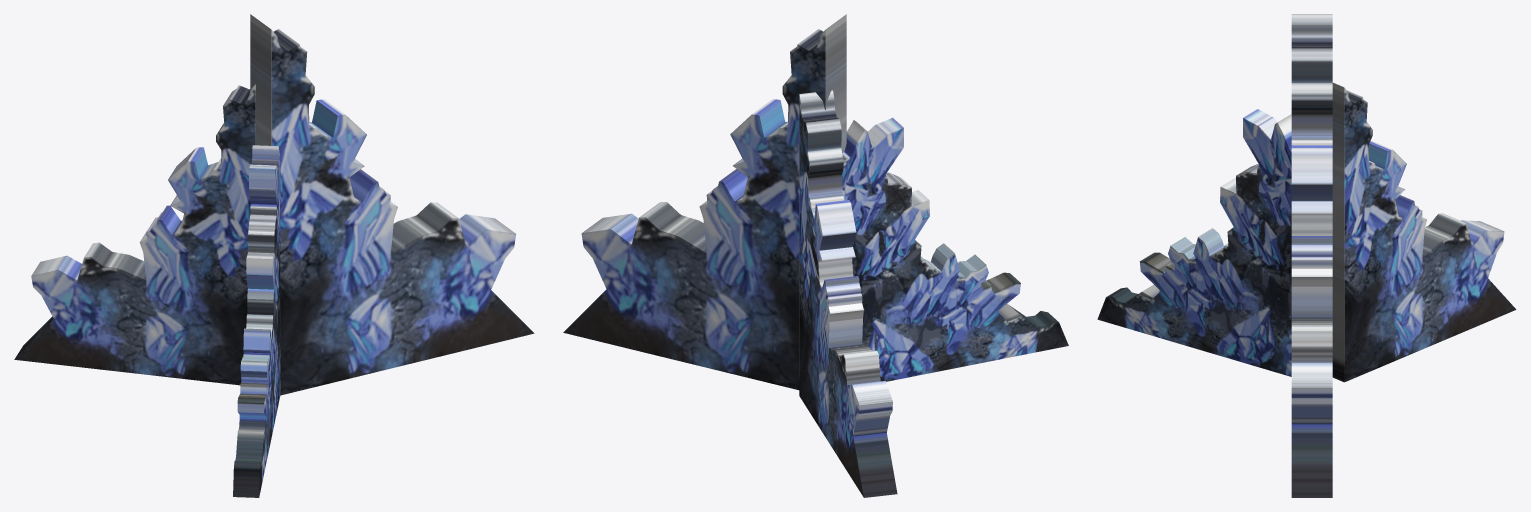
Rendered from SM_LevelCrystal_002.FBX.
The picture shows the model from 3 angles, left to right: view 1: azimuth 30°, elevation 25°; view 2: azimuth 150°, elevation 25°; view 3: azimuth 270°, elevation 25°; orthographic projection. The views are drawn at different scales.
Visible parts, largest first — view 1: SM_LevelCrystal_002; view 2: SM_LevelCrystal_002; view 3: SM_LevelCrystal_002.
Part boxes in pixels (x1,y1,x2,y2): SM_LevelCrystal_002: (14,14,534,497); SM_LevelCrystal_002: (563,14,1068,497); SM_LevelCrystal_002: (1097,14,1516,497).
Size of the model in its own units: 2372 by 2000 by 2117.
Materials: 1 (1 with a texture image).
